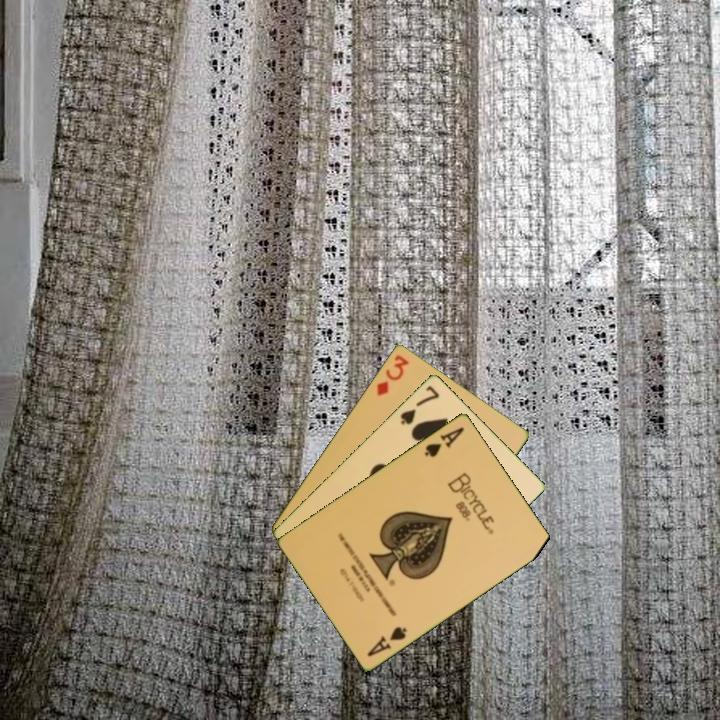3d: (373, 351, 412, 399)
7s: (397, 381, 442, 427)
As: (421, 423, 467, 460), (364, 623, 410, 659)
